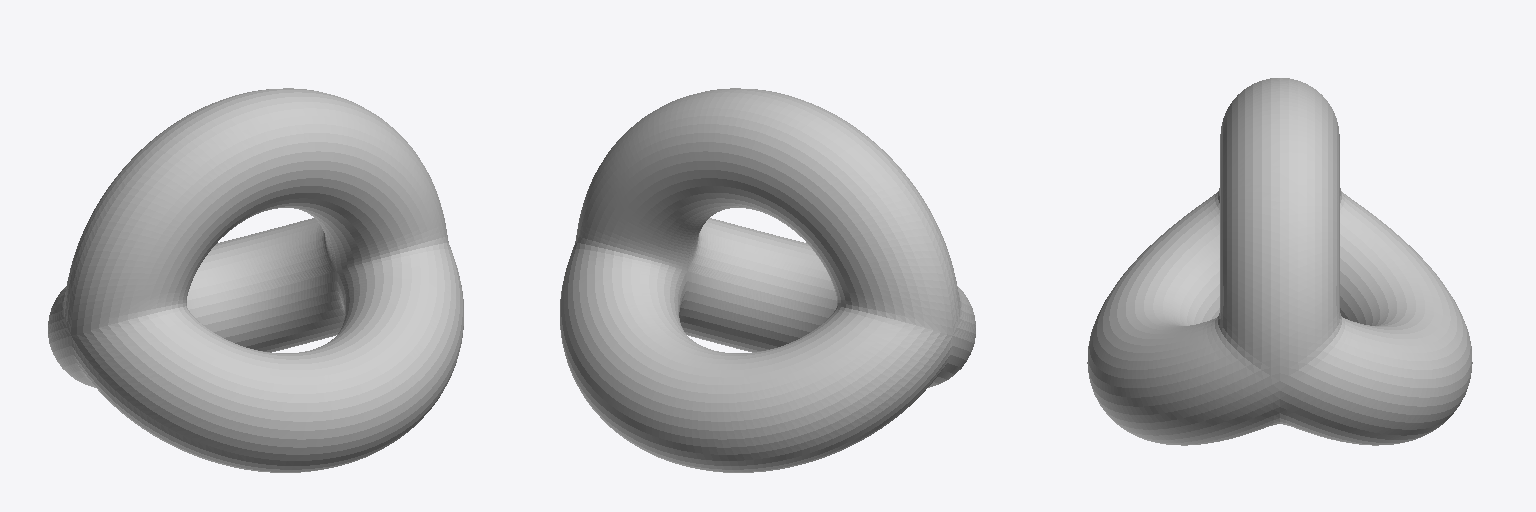
Rendered from g2sym3sixpanel~s17-6.obj.
3 views of the same model, side by side, from view 1: azimuth 30°, elevation 25°; view 2: azimuth 150°, elevation 25°; view 3: azimuth 270°, elevation 25° (orthographic).
Parts seen in each view (by area): view 1: genus_2; view 2: genus_2; view 3: genus_2.
Boxes of the visible parts, box(x1,y1,x2,y2) form: genus_2: box(48, 88, 463, 472); genus_2: box(560, 88, 975, 472); genus_2: box(1087, 78, 1472, 445).
Bounding box in the file's own units: 48.89 × 40.06 × 44.13.